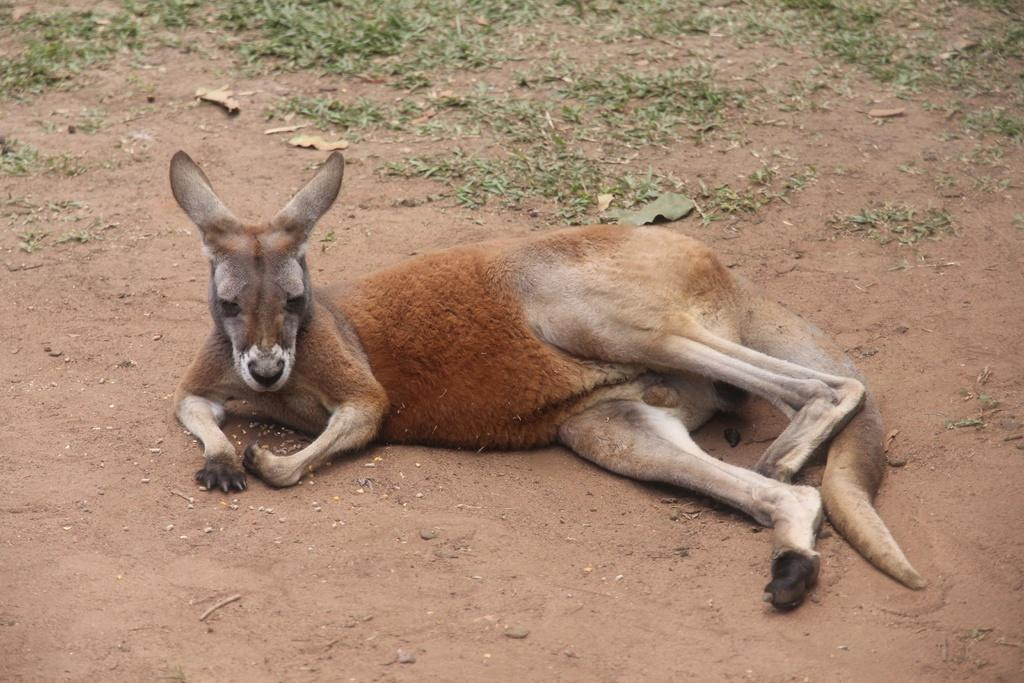kangaroo: (171, 148, 924, 606)
